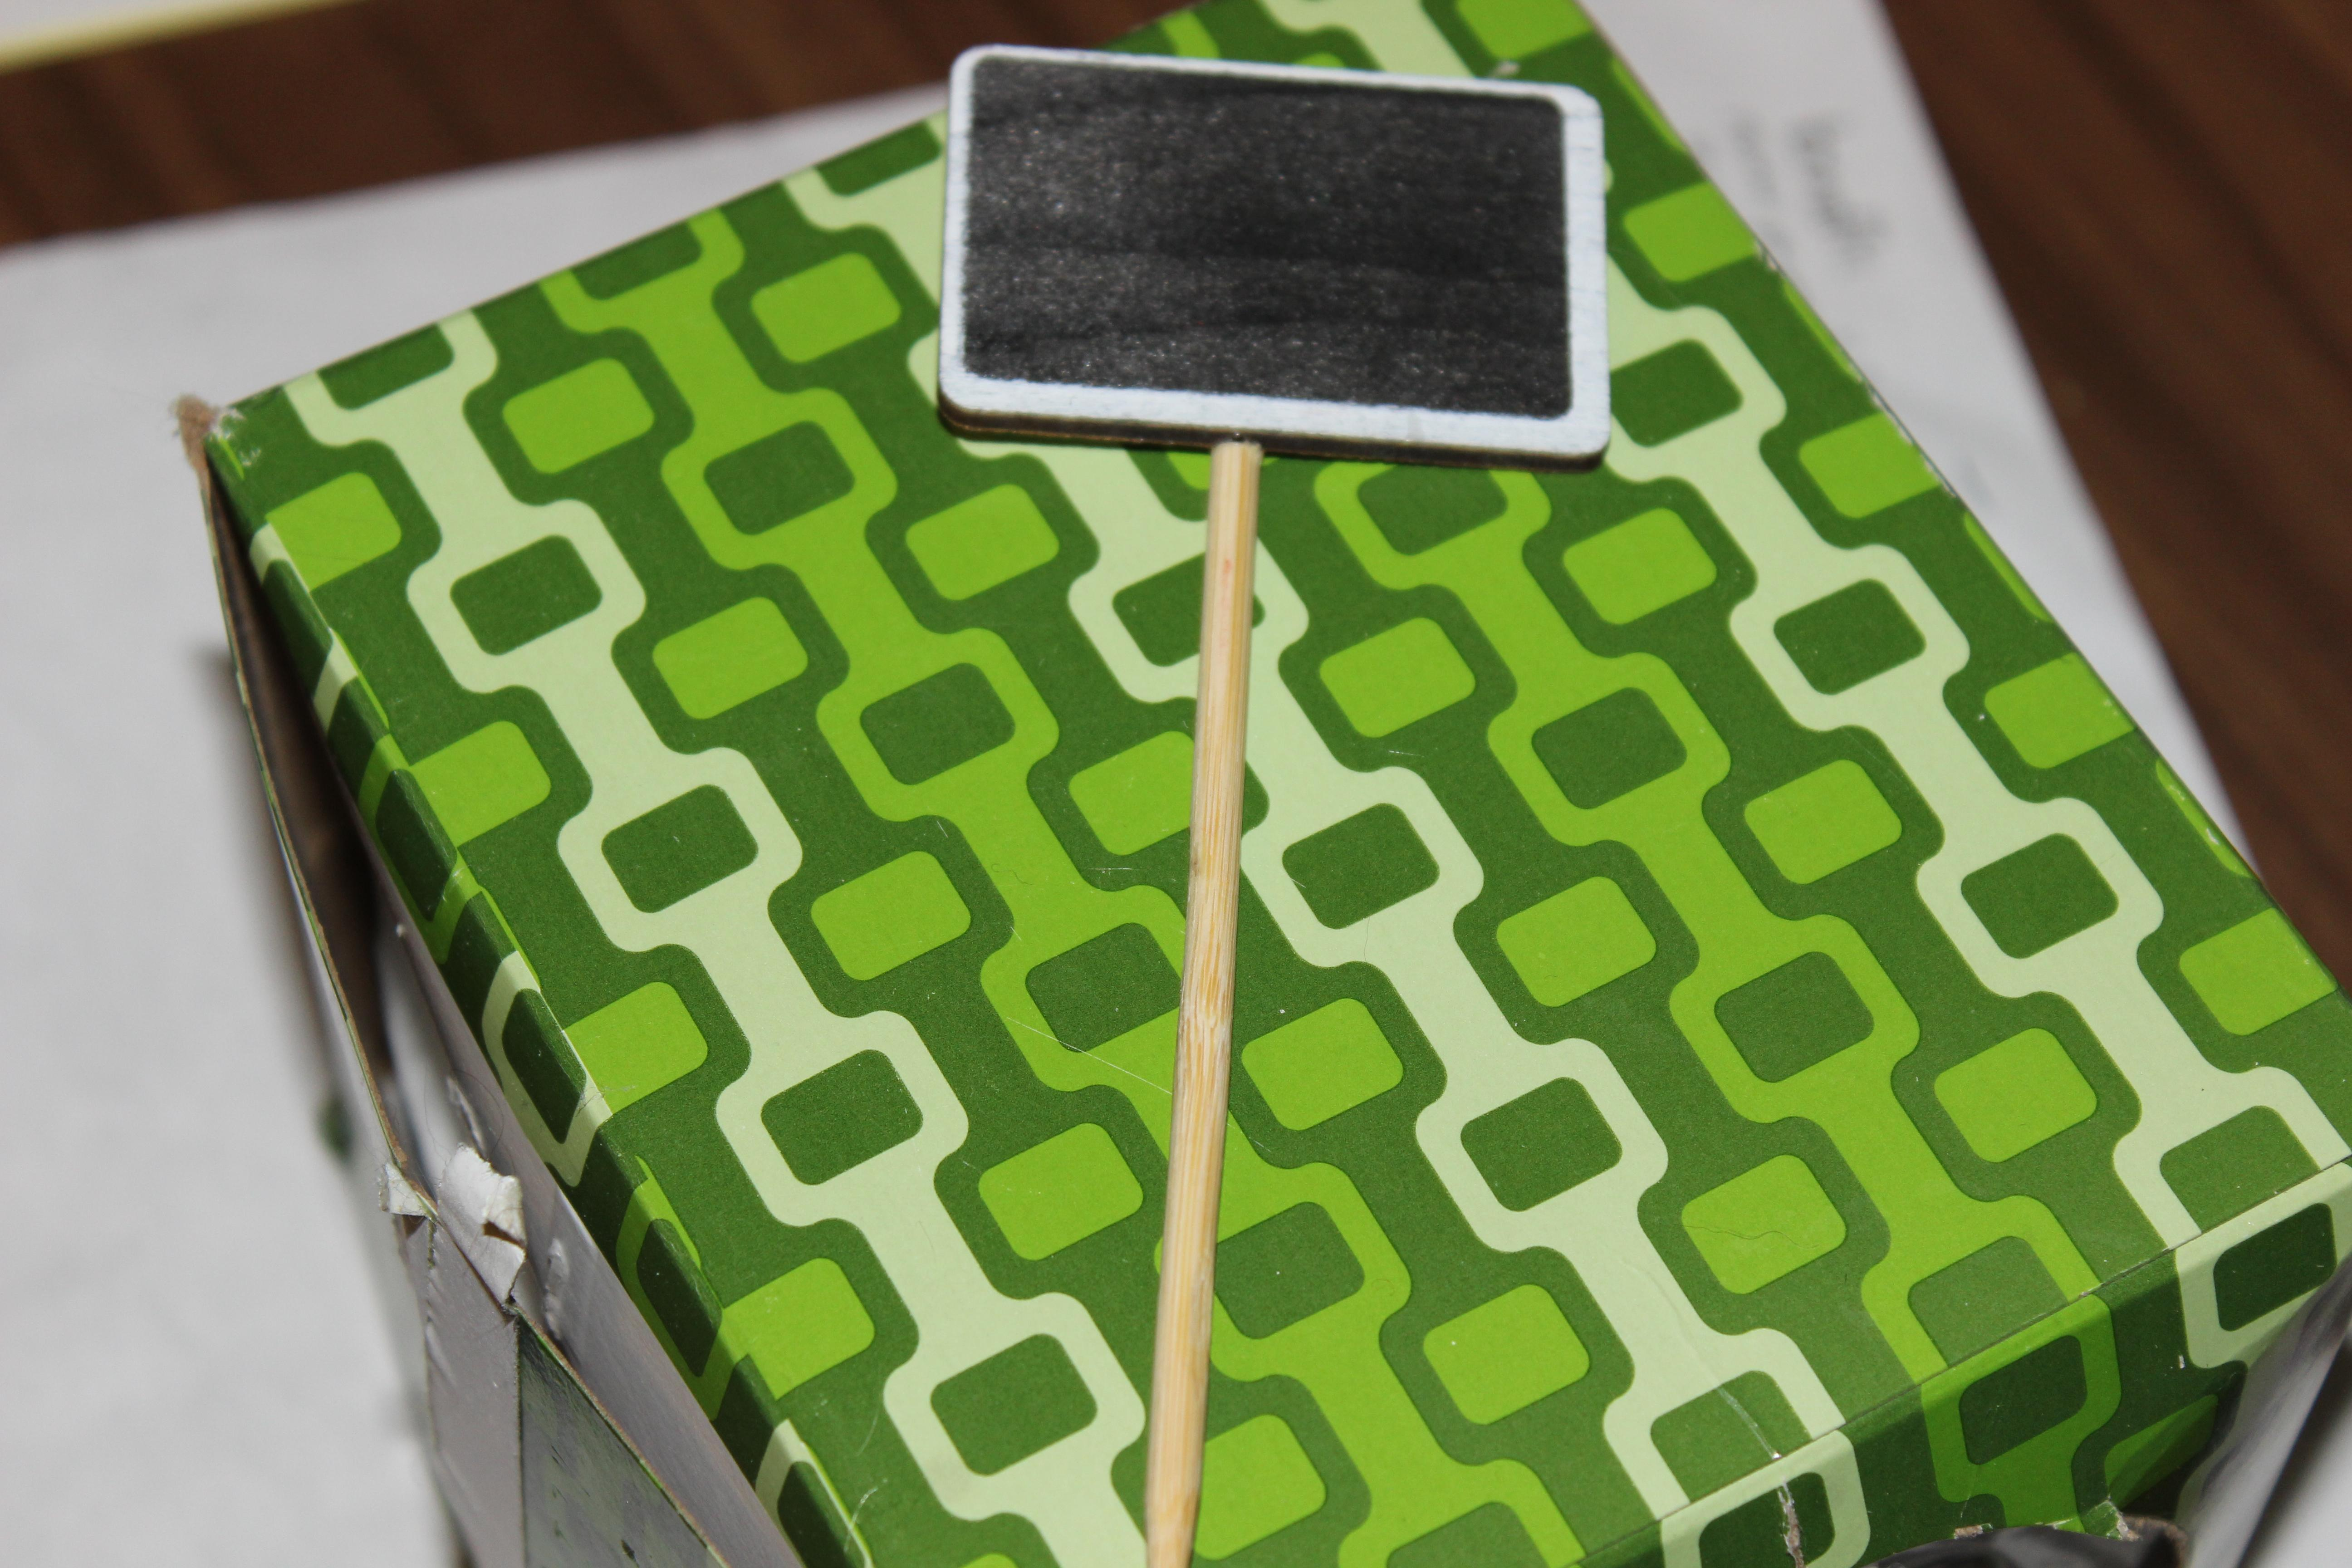sign: (892, 17, 1677, 1568)
